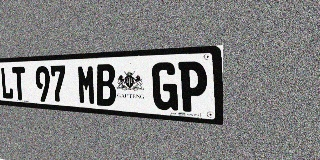7: (50, 65, 67, 103)
9: (35, 66, 51, 102)
B: (95, 64, 116, 107)
G: (152, 62, 178, 111)
L: (0, 67, 14, 100)
M: (77, 64, 96, 105)
P: (178, 61, 207, 113)
T: (12, 67, 26, 100)
